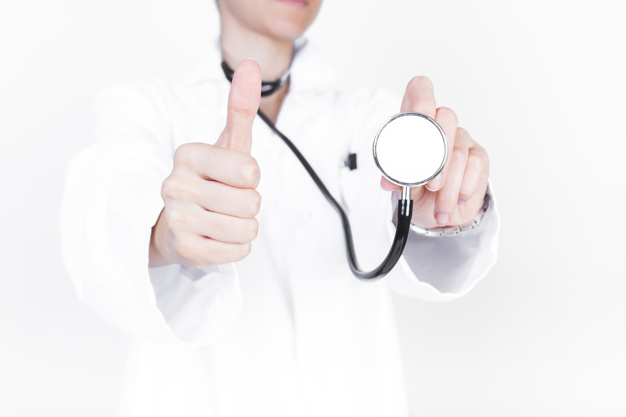thumbsup: (160, 58, 262, 267)
